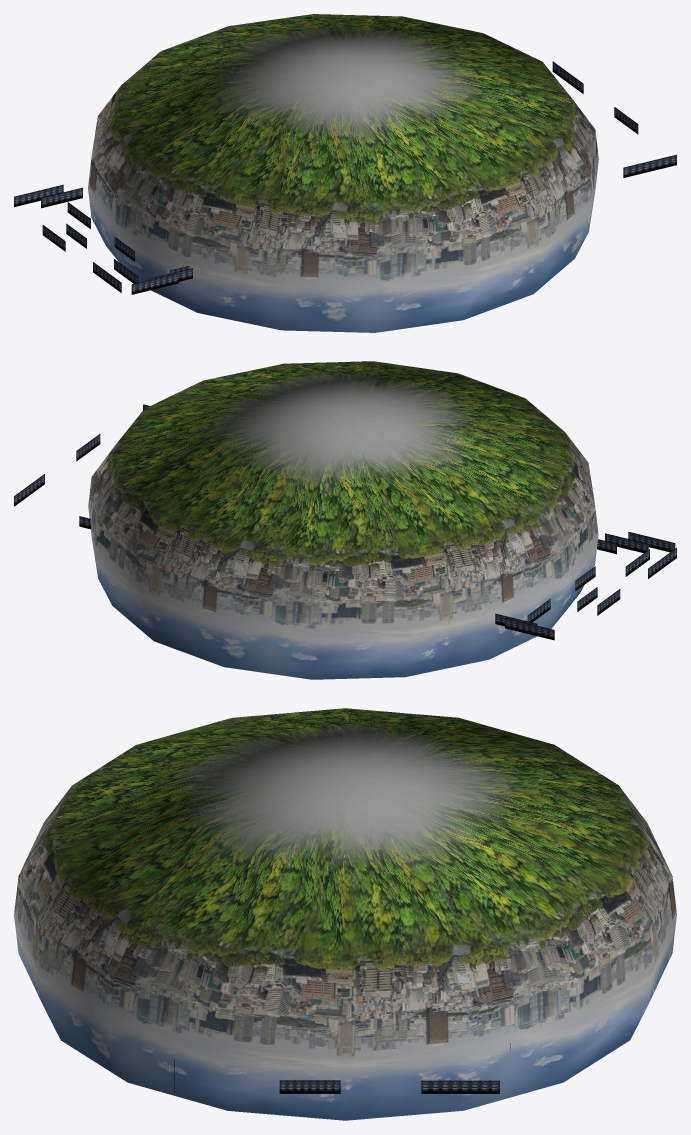
File: Arena.glb
The picture shows the model from 3 angles, top to bottom: view 1: azimuth 30°, elevation 25°; view 2: azimuth 150°, elevation 25°; view 3: azimuth 270°, elevation 25°; orthographic projection. The views are drawn at different scales.
Parts seen in each view (by area): view 1: Arena; view 2: Arena; view 3: Arena.
Part boxes in pixels (bbox=[...]): Arena: bbox=[14, 14, 676, 332]; Arena: bbox=[14, 361, 676, 679]; Arena: bbox=[14, 708, 676, 1120].
Size of the model in its own units: 703 by 205 by 573.
68 materials, 67 textured.
